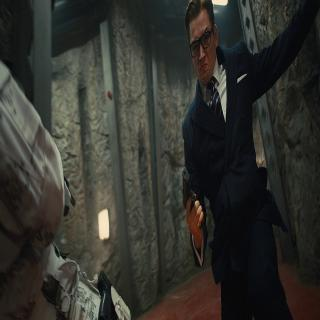gun: (180, 163, 205, 231)
